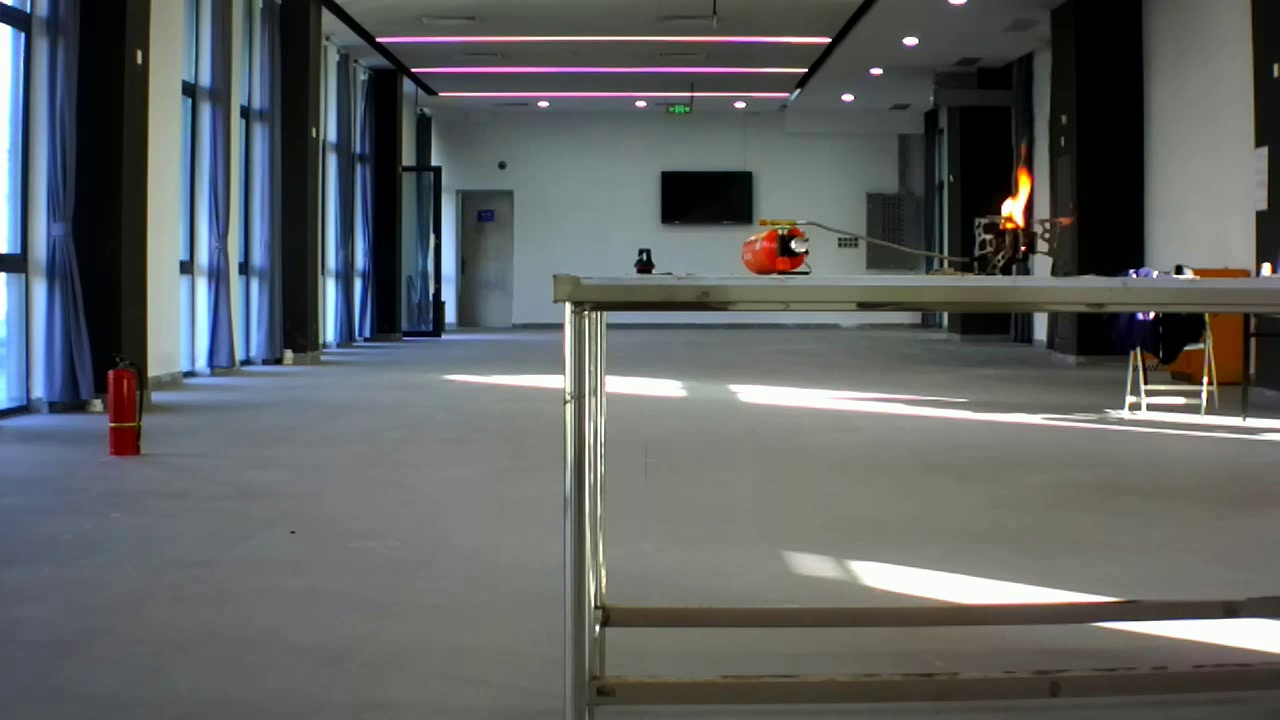Fire: (984, 137, 1040, 235)
